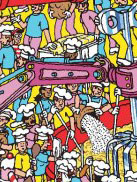waldo: (11, 24, 25, 44)
